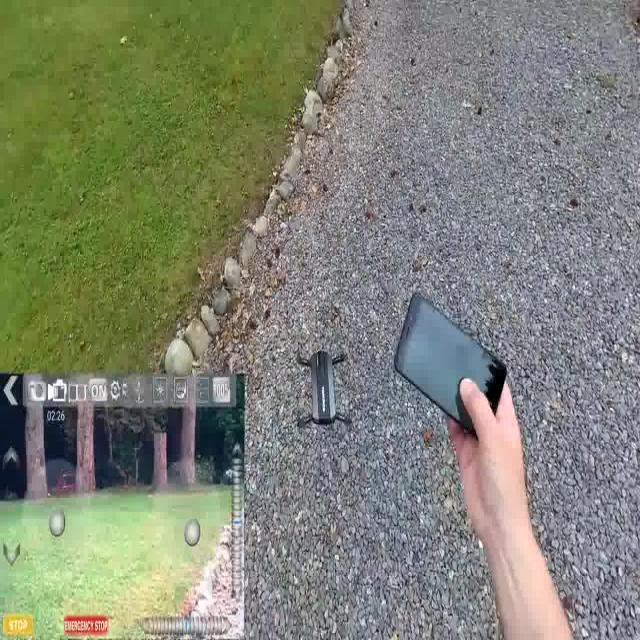Drone_FW: (291, 344, 359, 436)
